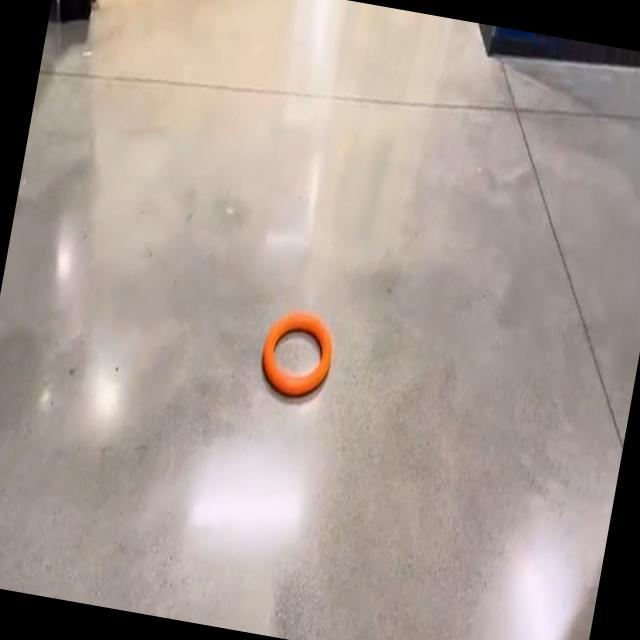note: (262, 311, 332, 396)
